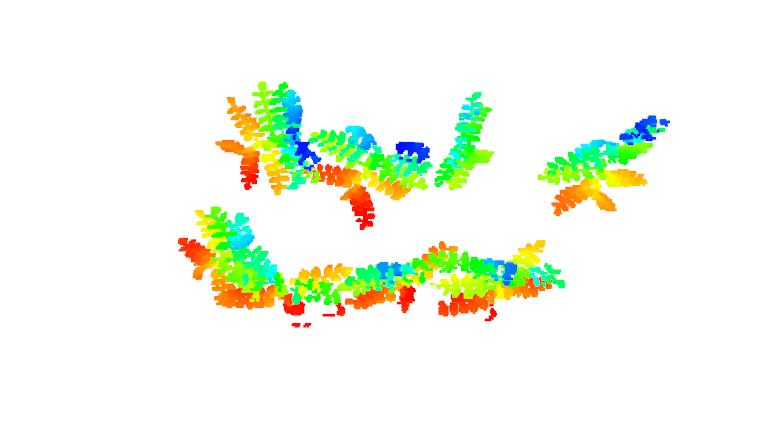chickpea: (173, 205, 347, 315), (209, 80, 319, 188), (546, 120, 670, 214), (309, 127, 425, 225), (428, 240, 563, 316), (349, 236, 462, 308), (431, 88, 496, 192)
